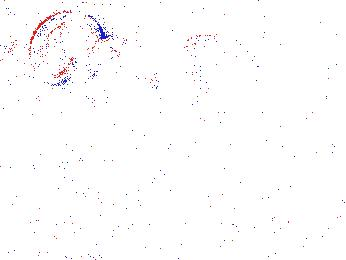moon jellyfish: (183, 34, 264, 129), (66, 34, 161, 108), (28, 11, 103, 86), (161, 10, 238, 80), (1, 3, 21, 65)
